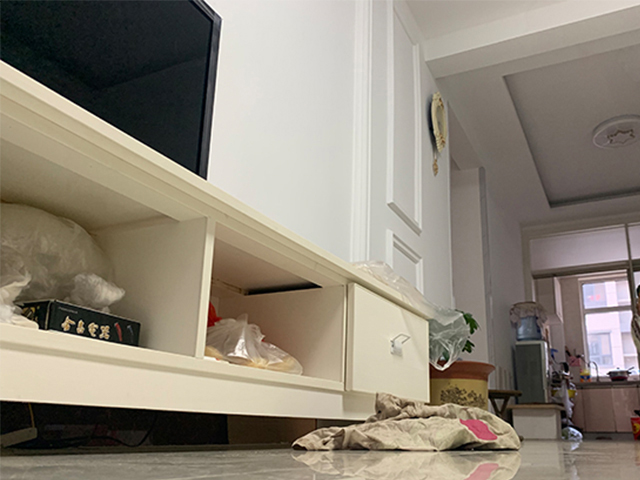cabinet: (1, 56, 432, 422), (572, 379, 640, 441)
stool: (489, 388, 524, 442)
trashcan: (631, 414, 639, 442)
